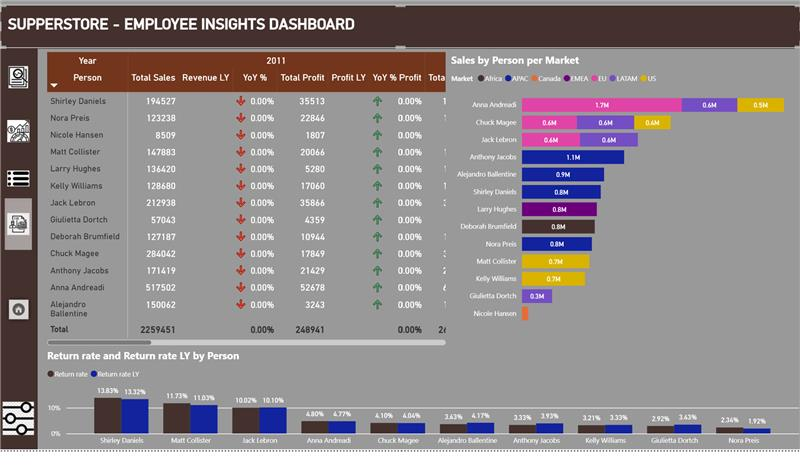

The dashboard page shown, as its layout file describes it:
{"tool":"powerbi","page":{"name":"EMPLOYEE PERFORMANCE","canvas":[1280,720],"ordinal":4},"visuals":[{"type":"shape","box":[0,1.4,1280,718.6],"z":0},{"type":"shape","box":[0,10,1280.4,70],"z":0,"group":"g1"},{"type":"actionButton","box":[0,86.7,61.3,77.8],"z":0,"group":"g2"},{"type":"textbox","box":[9.5,21.1,639.4,46.1],"z":1000,"group":"g1"},{"type":"shape","box":[0,65.8,61.3,653.5],"z":1000},{"type":"actionButton","box":[0,168.9,61.3,85.2],"z":1000,"group":"g2"},{"type":"group","id":"g1","title":"Group 1","box":[0,10,1280.4,70],"z":2000},{"type":"actionButton","box":[0,309.5,61.3,100.2],"z":2000,"group":"g2"},{"type":"group","id":"g2","title":"Group 1","box":[0,86.7,61.3,632.5],"z":3000},{"type":"actionButton","box":[0,234.7,61.3,103.2],"z":3000,"group":"g2"},{"type":"pivotTable","fields":{"Rows":["People.Person"],"Values":["Dimension.Total Sales","Dimension.Revenue LY","Dimension.YoY %","Dimension.Total Profit","Dimension.Profit LY","Dimension.YoY % Profit"],"Columns":["dimDate.Date.Variation.Date Hierarchy.Year"]},"box":[71.2,80,645,477.5],"z":4000},{"type":"actionButton","box":[0,619,61.3,100.2],"z":4000,"group":"g2"},{"type":"barChart","title":"Sales by Person per Market","fields":{"Category":["People.Person"],"Y":["Dimension.Total Sales"],"Series":["Orders.Market"]},"box":[715.7,87.1,567.1,442.9],"z":5000},{"type":"clusteredColumnChart","fields":{"Category":["People.Person"],"Y":["Dimension.Return rate","Dimension.Return rate PY"]},"box":[71.2,557.5,1208.8,163.8],"z":6000},{"type":"actionButton","box":[7.5,472.5,47.5,47.5],"z":8000}]}

Visuals, with their boxes on the page's 1280x720 design canvas (x1, y1, x2, y2). These are canvas units, not pixel positions in the 800x465 screenshot, which may show the page scaled, cropped or inside an application window:
shape: left=0, top=1, right=1280, bottom=720
shape: left=0, top=10, right=1280, bottom=80
actionButton: left=0, top=87, right=61, bottom=164
textbox: left=10, top=21, right=649, bottom=67
shape: left=0, top=66, right=61, bottom=719
actionButton: left=0, top=169, right=61, bottom=254
"Group 1" group: left=0, top=10, right=1280, bottom=80
actionButton: left=0, top=310, right=61, bottom=410
"Group 1" group: left=0, top=87, right=61, bottom=719
actionButton: left=0, top=235, right=61, bottom=338
pivotTable - People.Person x Dimension.Total Sales: left=71, top=80, right=716, bottom=558
actionButton: left=0, top=619, right=61, bottom=719
"Sales by Person per Market" barChart: left=716, top=87, right=1283, bottom=530
clusteredColumnChart - People.Person x Dimension.Return rate: left=71, top=558, right=1280, bottom=721
actionButton: left=8, top=472, right=55, bottom=520
